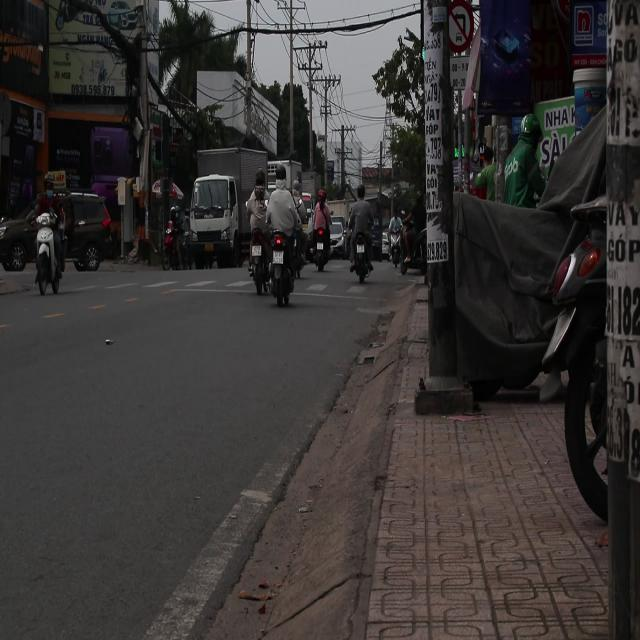car: (6, 172, 119, 295)
motorbike: (236, 212, 272, 313), (31, 202, 68, 294), (264, 230, 298, 315), (347, 218, 389, 279), (164, 213, 191, 290), (309, 222, 335, 276)
truck: (188, 135, 278, 269)
